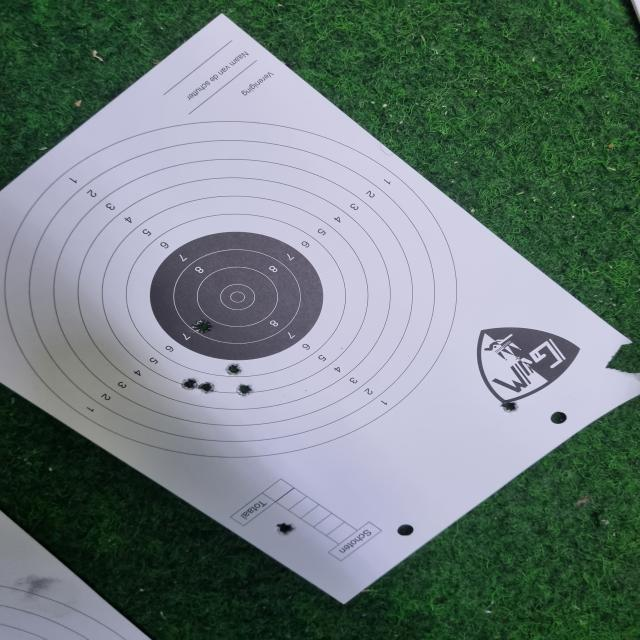6: (234, 384, 256, 398), (180, 377, 198, 391), (198, 382, 216, 395)
7: (226, 362, 243, 377)
9: (192, 319, 212, 334)
Black Contour: (148, 231, 326, 361)
Target: (4, 121, 458, 458)
hole: (274, 520, 296, 536), (501, 399, 522, 414)
